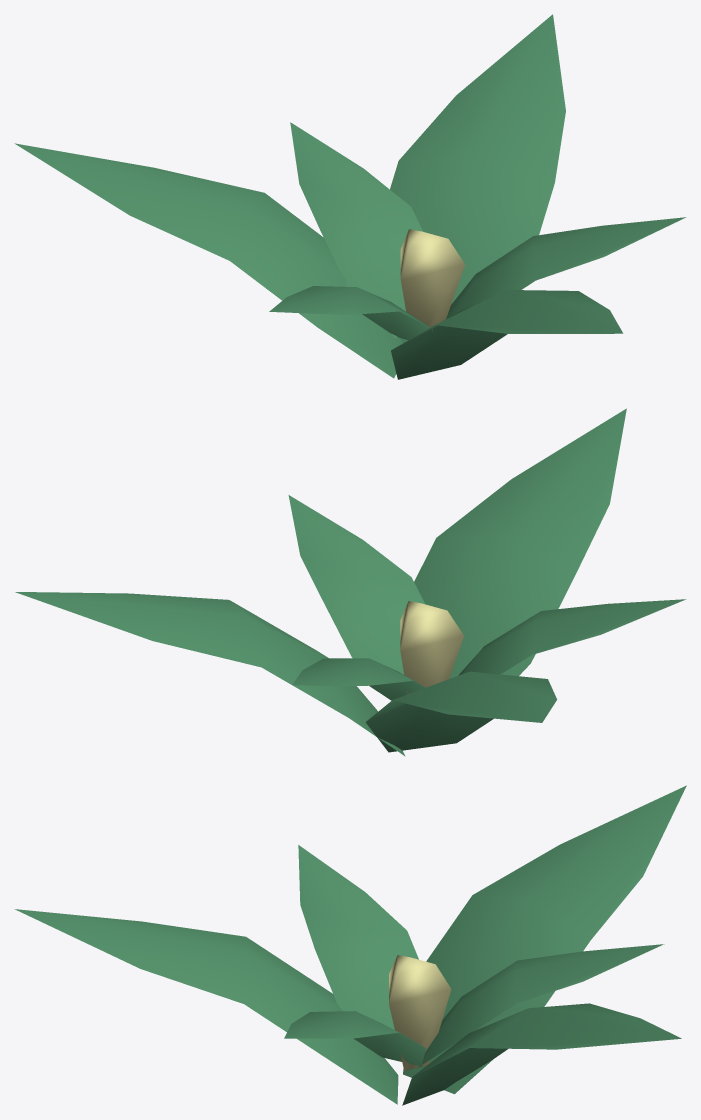
The model's file is Plant1.fbx.
The picture shows the model from 3 angles, top to bottom: view 1: azimuth 30°, elevation 25°; view 2: azimuth 150°, elevation 25°; view 3: azimuth 270°, elevation 25°; orthographic projection. The views are drawn at different scales.
Visible parts, largest first — view 1: pPlane2; view 2: pPlane2; view 3: pPlane2.
Boxes of the visible parts, x1,y1,x2,y2 form: pPlane2: (14,14,686,379); pPlane2: (15,408,686,756); pPlane2: (14,785,686,1105).
Size of the model in its own units: 3.76 by 1.24 by 4.21.
